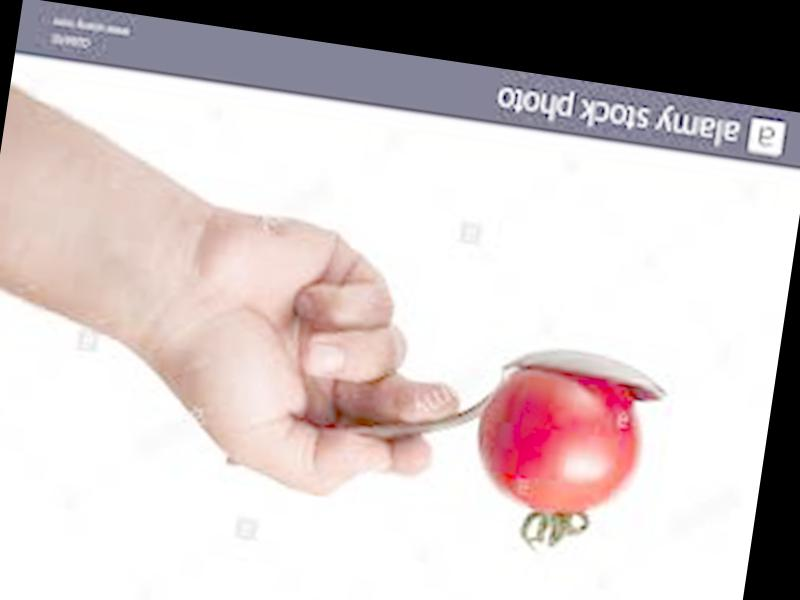Tomato: (466, 362, 647, 525)
